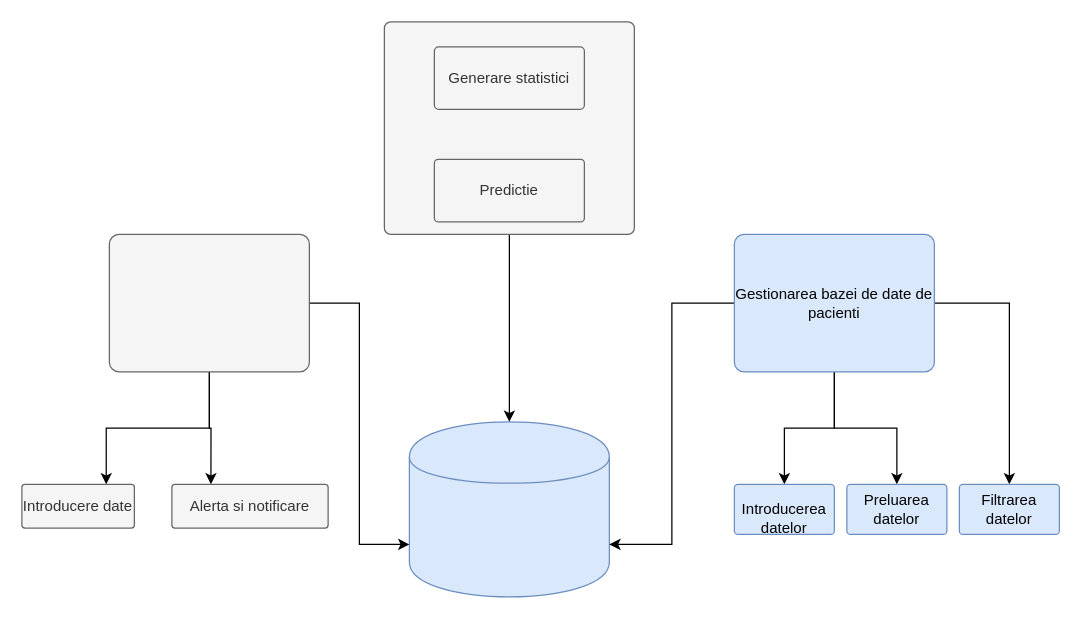
The diagram is 1081 pixels wide and 619 high, and some of its shapes have lost their labels. Here are the shapes that lost their labels. From the top down, the box of each, then its label:
(108, 233, 309, 372): Monitorizare pacient
(408, 421, 609, 597): Database
